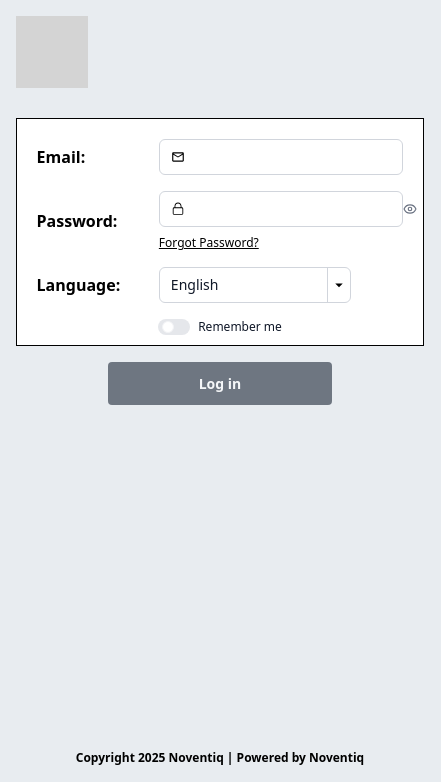
Test: Login Component › validates email format
# Test invalid email
In the field labelled "Email:": coordinates (294, 157) 185,139 -> 403,175, type "invalid-email"
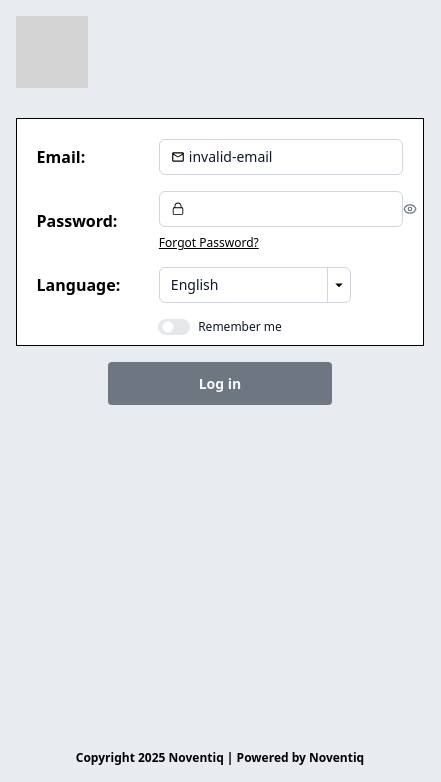
Leave the field labelled "Email:", box 185,139 -> 403,175
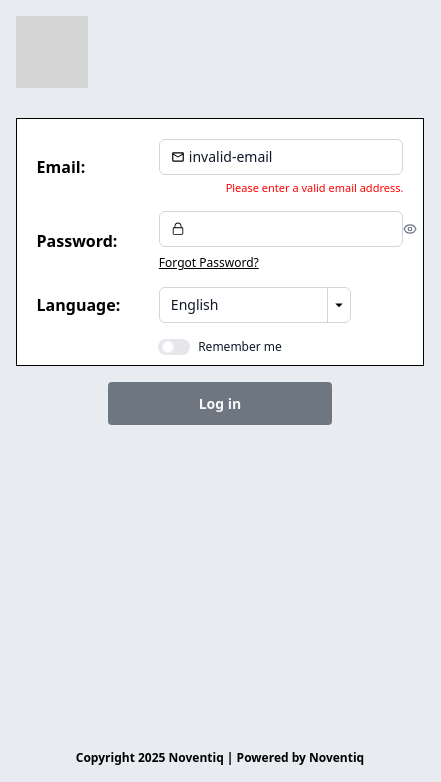
Now the text "Please enter a valid email address." is shown, box 226,180 -> 403,195
# Test public email provider
Replace the text in the field labelled "Email:" with "test@gmail.com": coordinates (294, 157) 185,139 -> 403,175
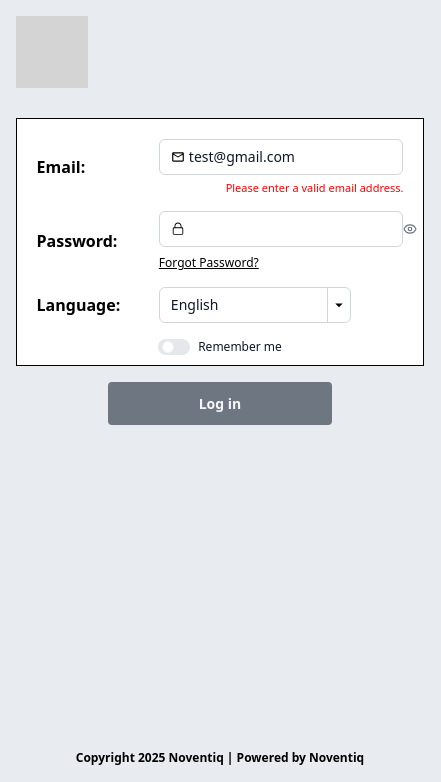
Leave the field labelled "Email:", box 185,139 -> 403,175
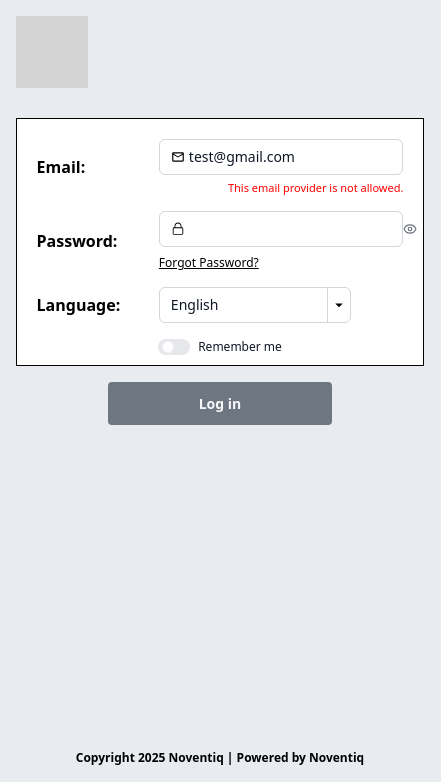
Now the text "This email provider is not allowed." is shown, box 228,180 -> 403,195
# Test valid email
Replace the text in the field labelled "Email:" with "test@company.com": coordinates (294, 157) 185,139 -> 403,175
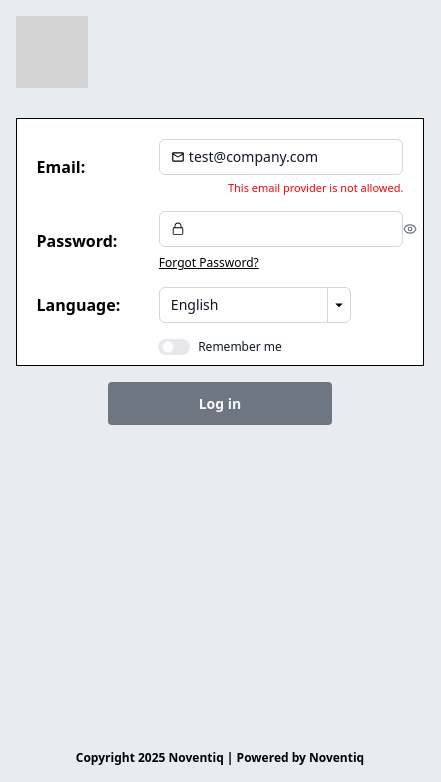
Leave the field labelled "Email:", box 185,139 -> 403,175
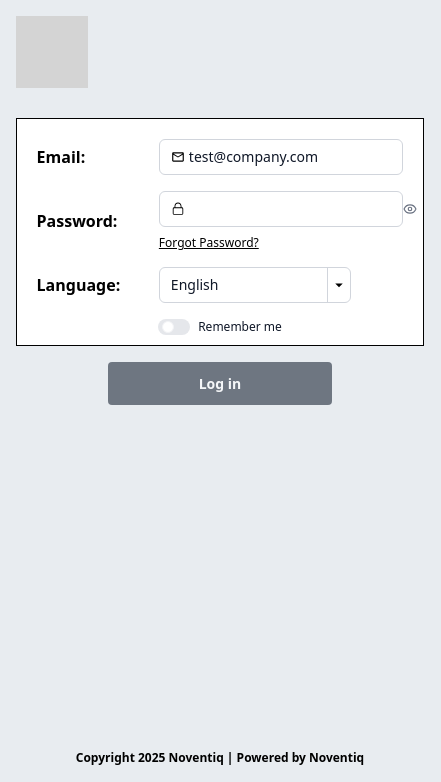
Expected: the text "Please enter a valid email address." is not shown
Now the text "This email provider is not allowed." is gone
